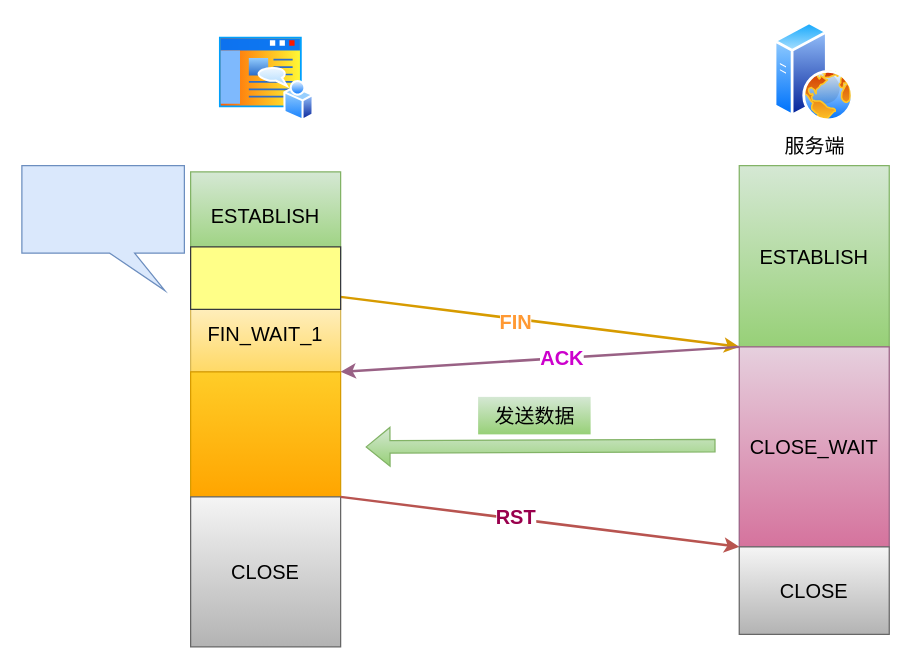
Image size: 911x669. Some labels were removed from this diagram. The centre of each missing label's shape, as x and y in pixels:
FIN_WAIT_2: (x=265, y=434)
主动调用 close () 函数: (x=265, y=277)
客户端: (x=265, y=77)
我没有发送和读取数据的能力啦！: (x=102, y=227)
